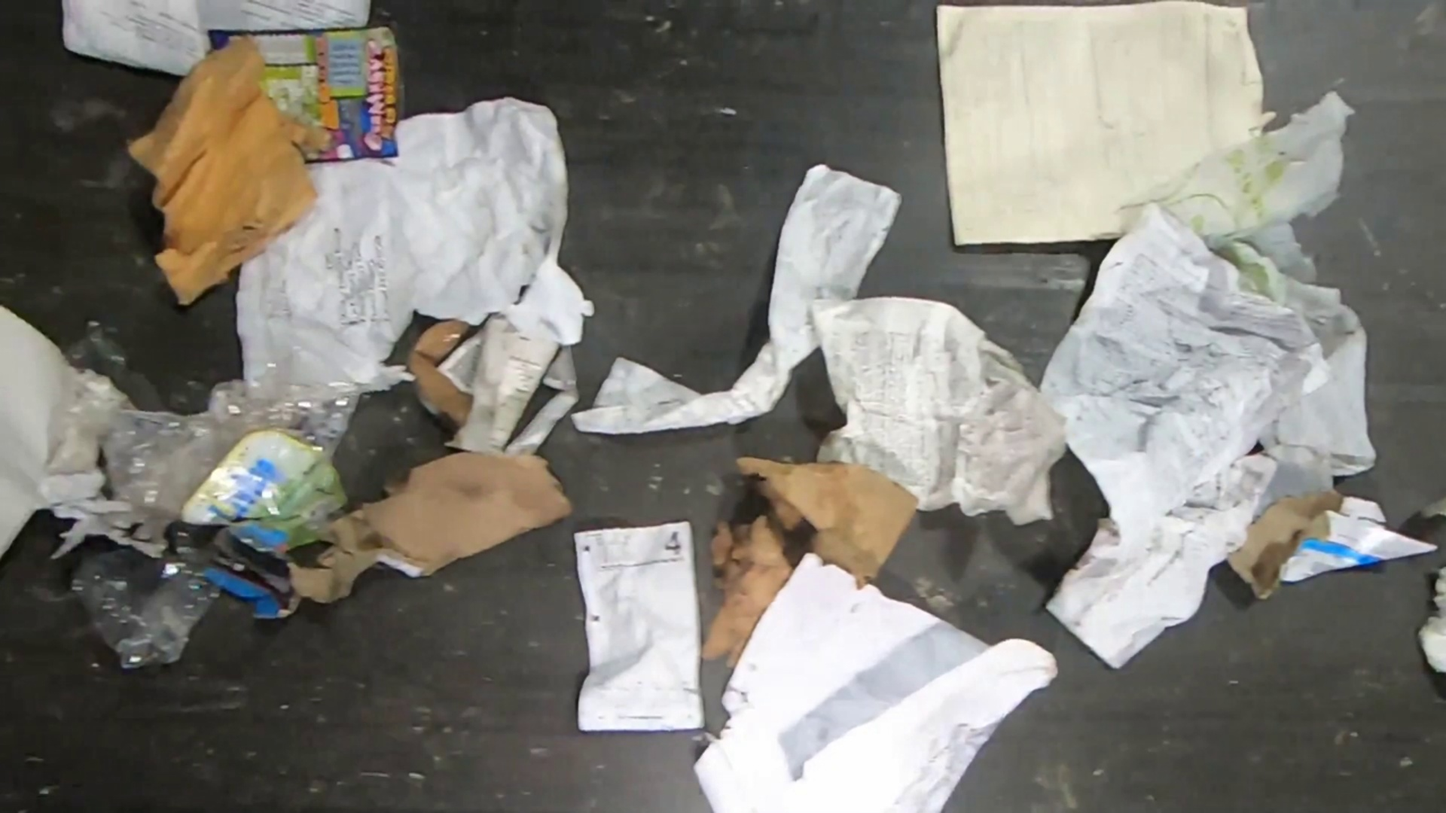cardboard: (123, 33, 331, 307), (698, 455, 923, 670), (1227, 489, 1442, 601), (408, 320, 483, 434)
plastic: (44, 321, 362, 670), (1151, 89, 1380, 480)
